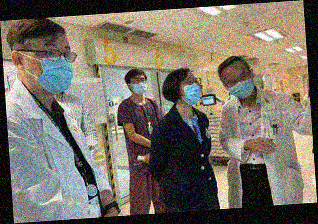with_mask: (23, 41, 74, 95), (223, 72, 255, 98), (180, 75, 202, 105), (130, 76, 149, 96)
